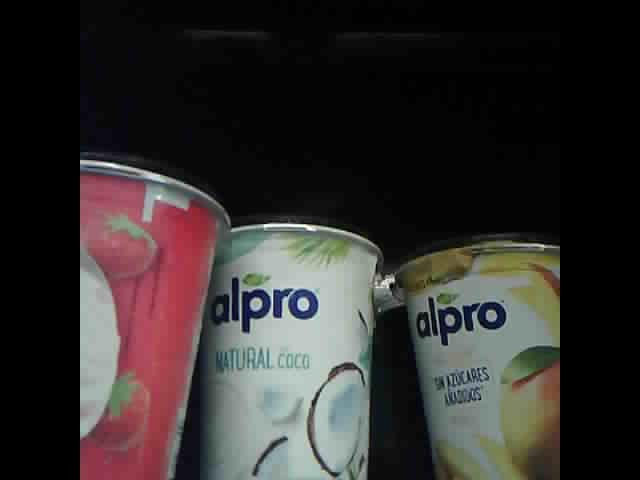alpro: (80, 145, 231, 479), (200, 215, 385, 480), (395, 231, 560, 480)
